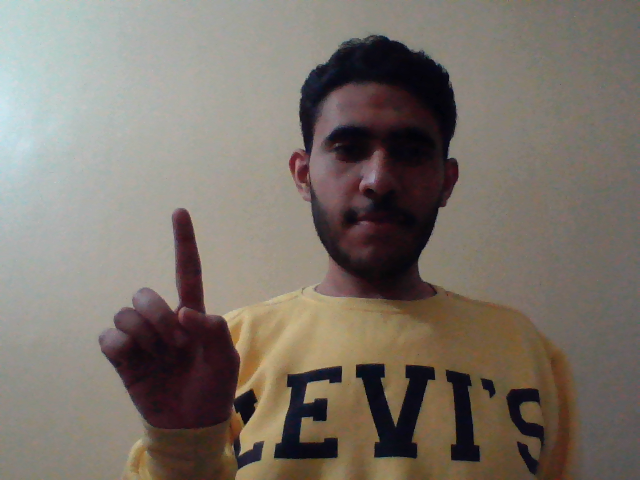D: (91, 199, 249, 435)
